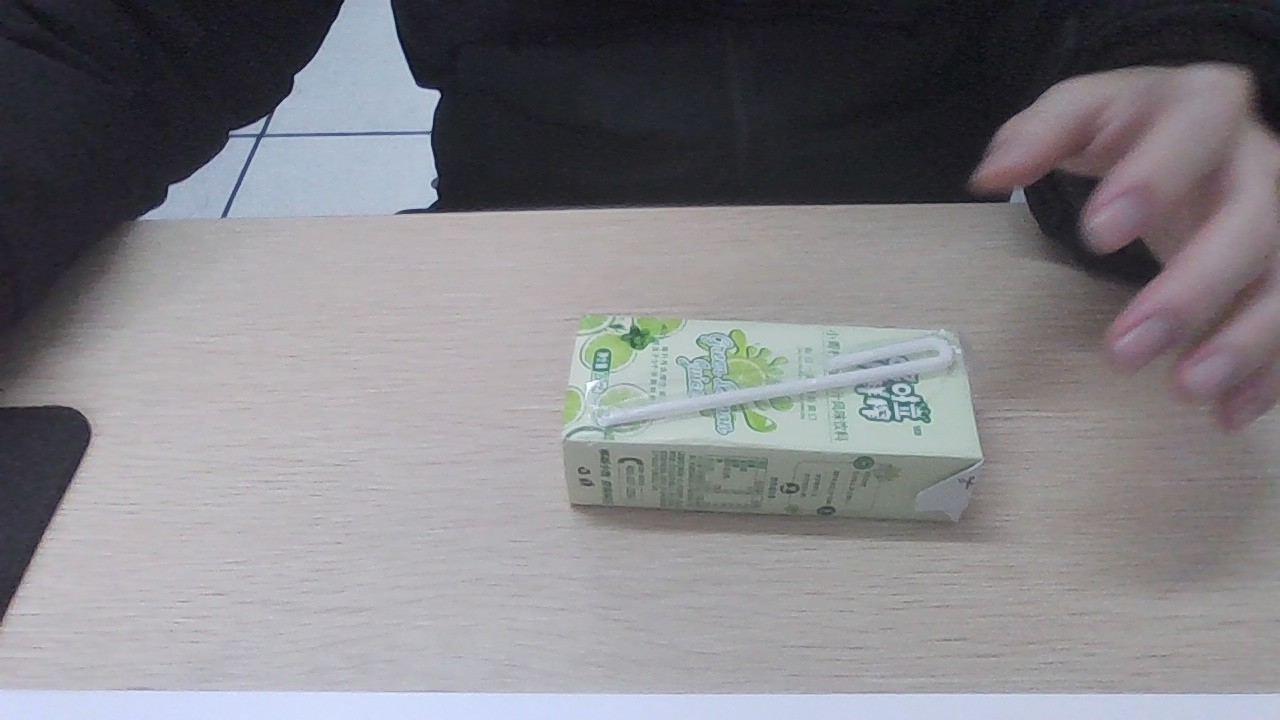CY-drink: (564, 306, 973, 528)
